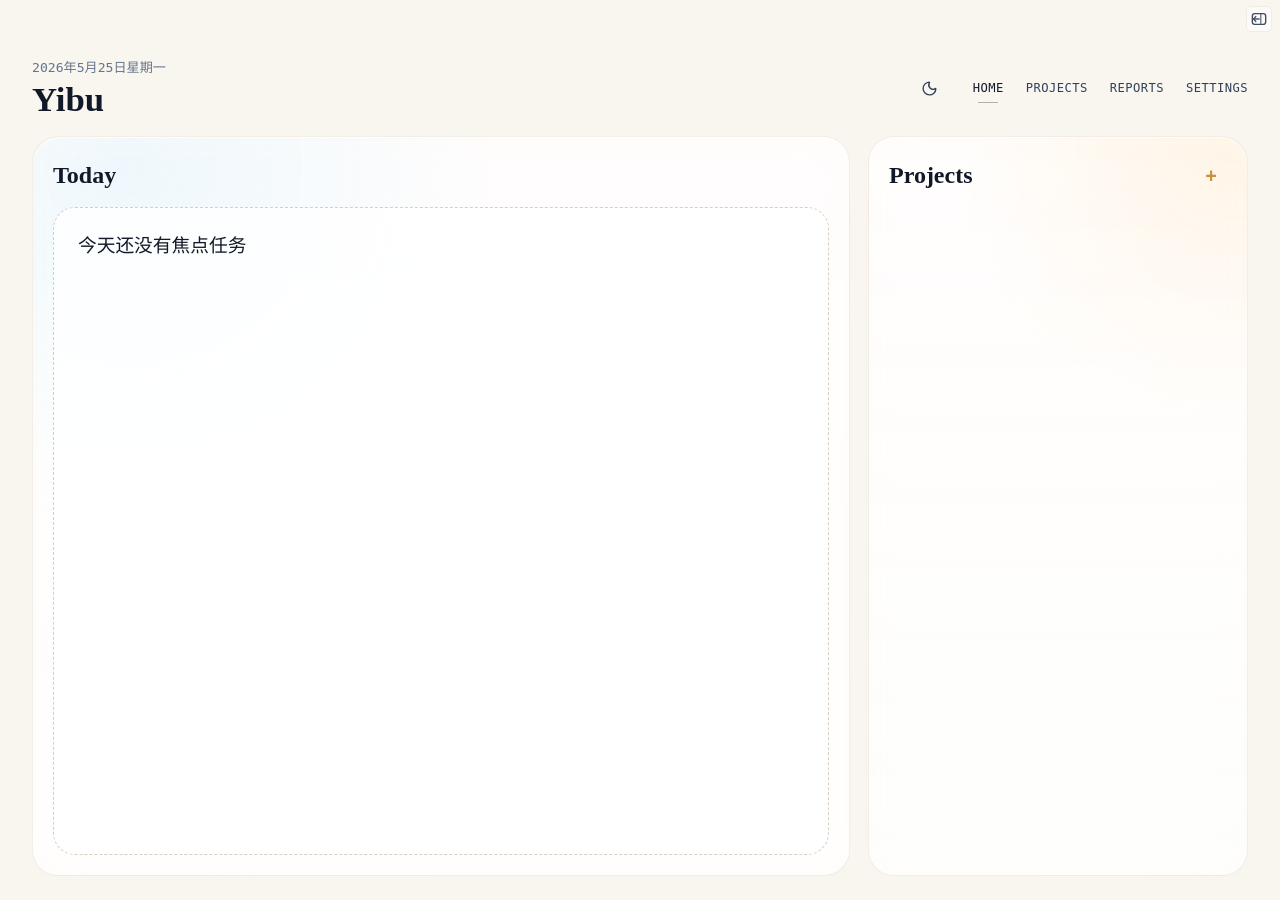
preferences store › shows an export failure when desktop export cannot be written
The image size is (1280, 900).
Click the link "Settings" at (1217, 88), box left=1186, top=71, right=1248, bottom=105
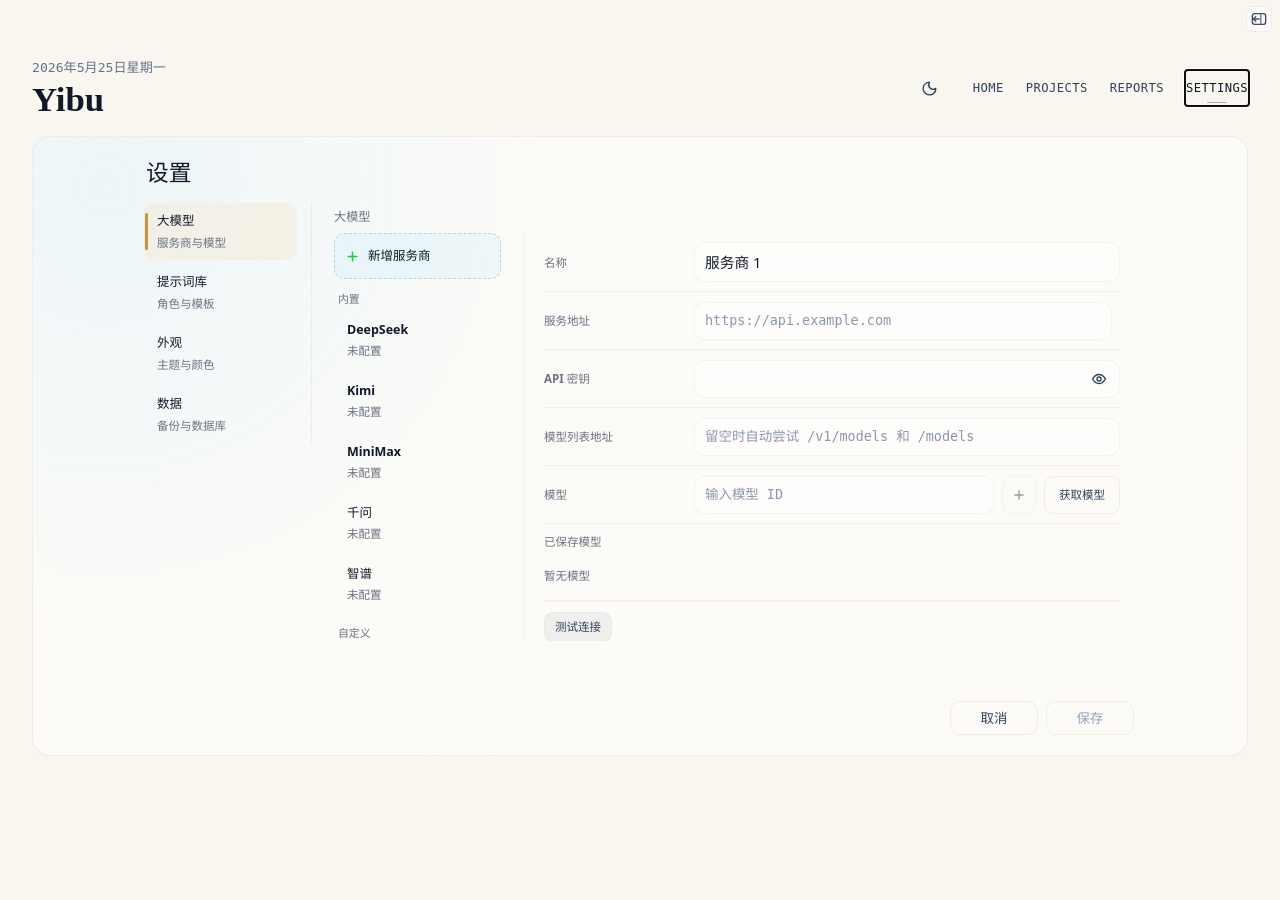
Click the button "数据 备份与数据库" at (220, 415), box left=144, top=386, right=297, bottom=443
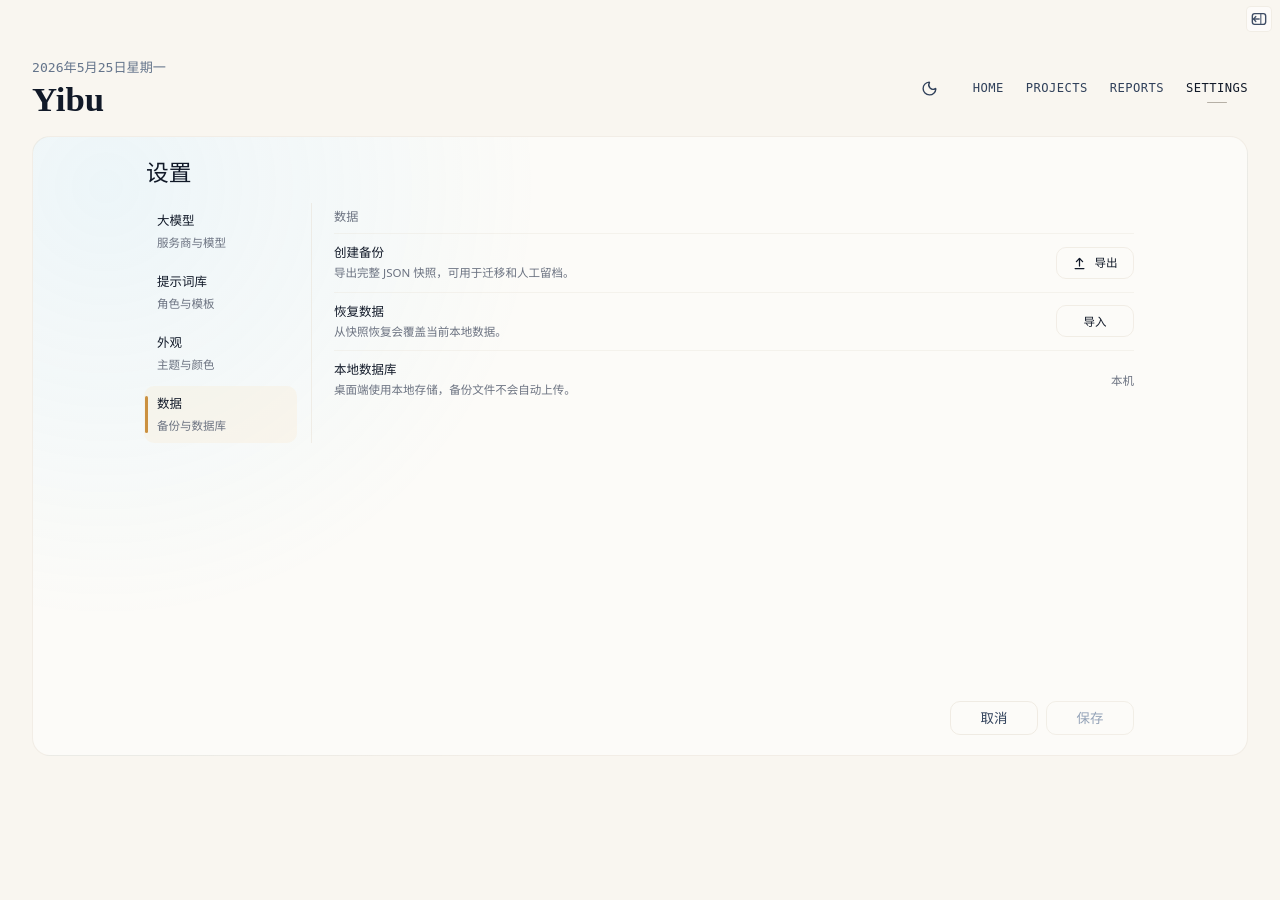
Click the button with aria-label "创建备份" at (1095, 263), box left=1056, top=247, right=1134, bottom=279
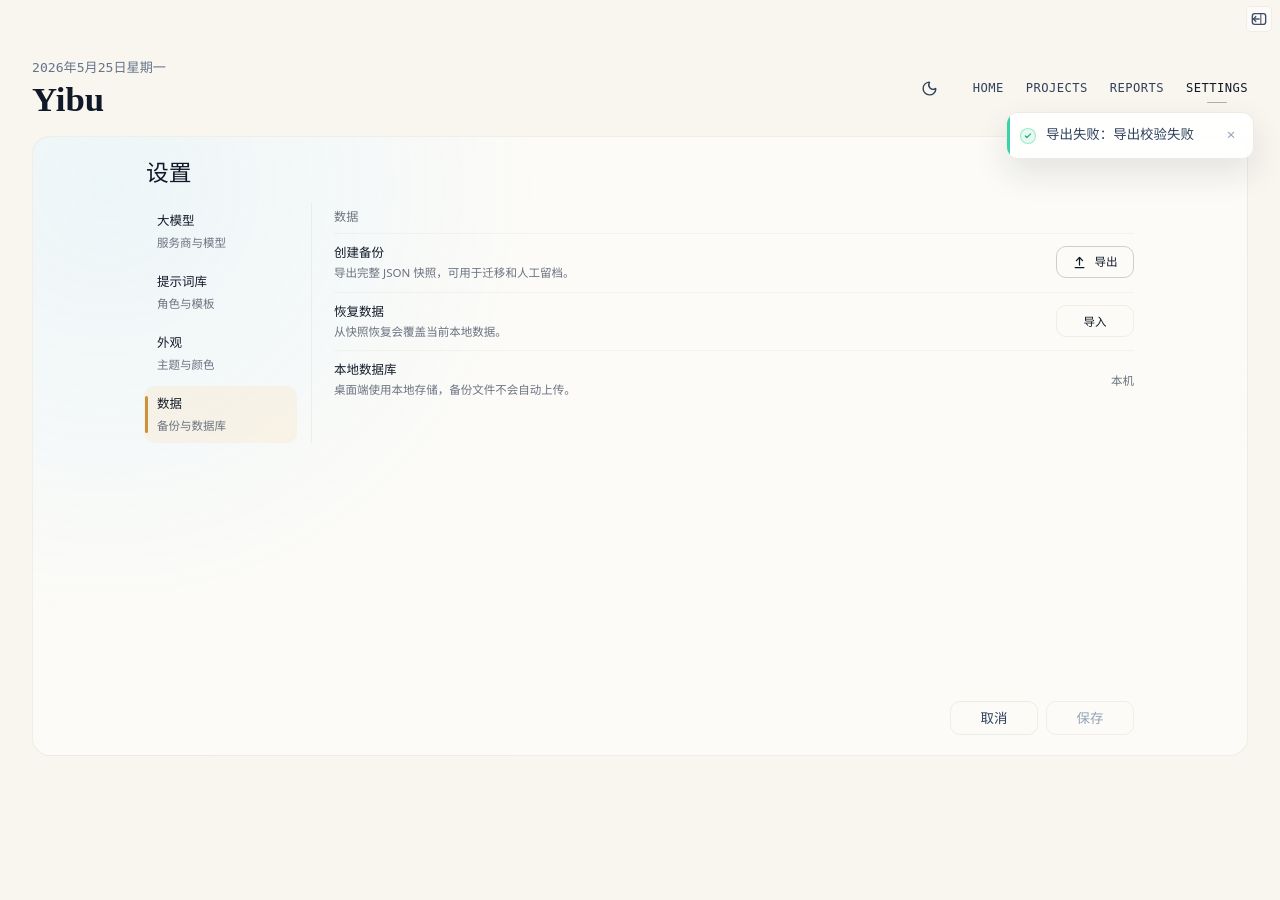
Expected: the text "导出失败：导出校验失败" is shown, left=1046, top=126, right=1194, bottom=144
